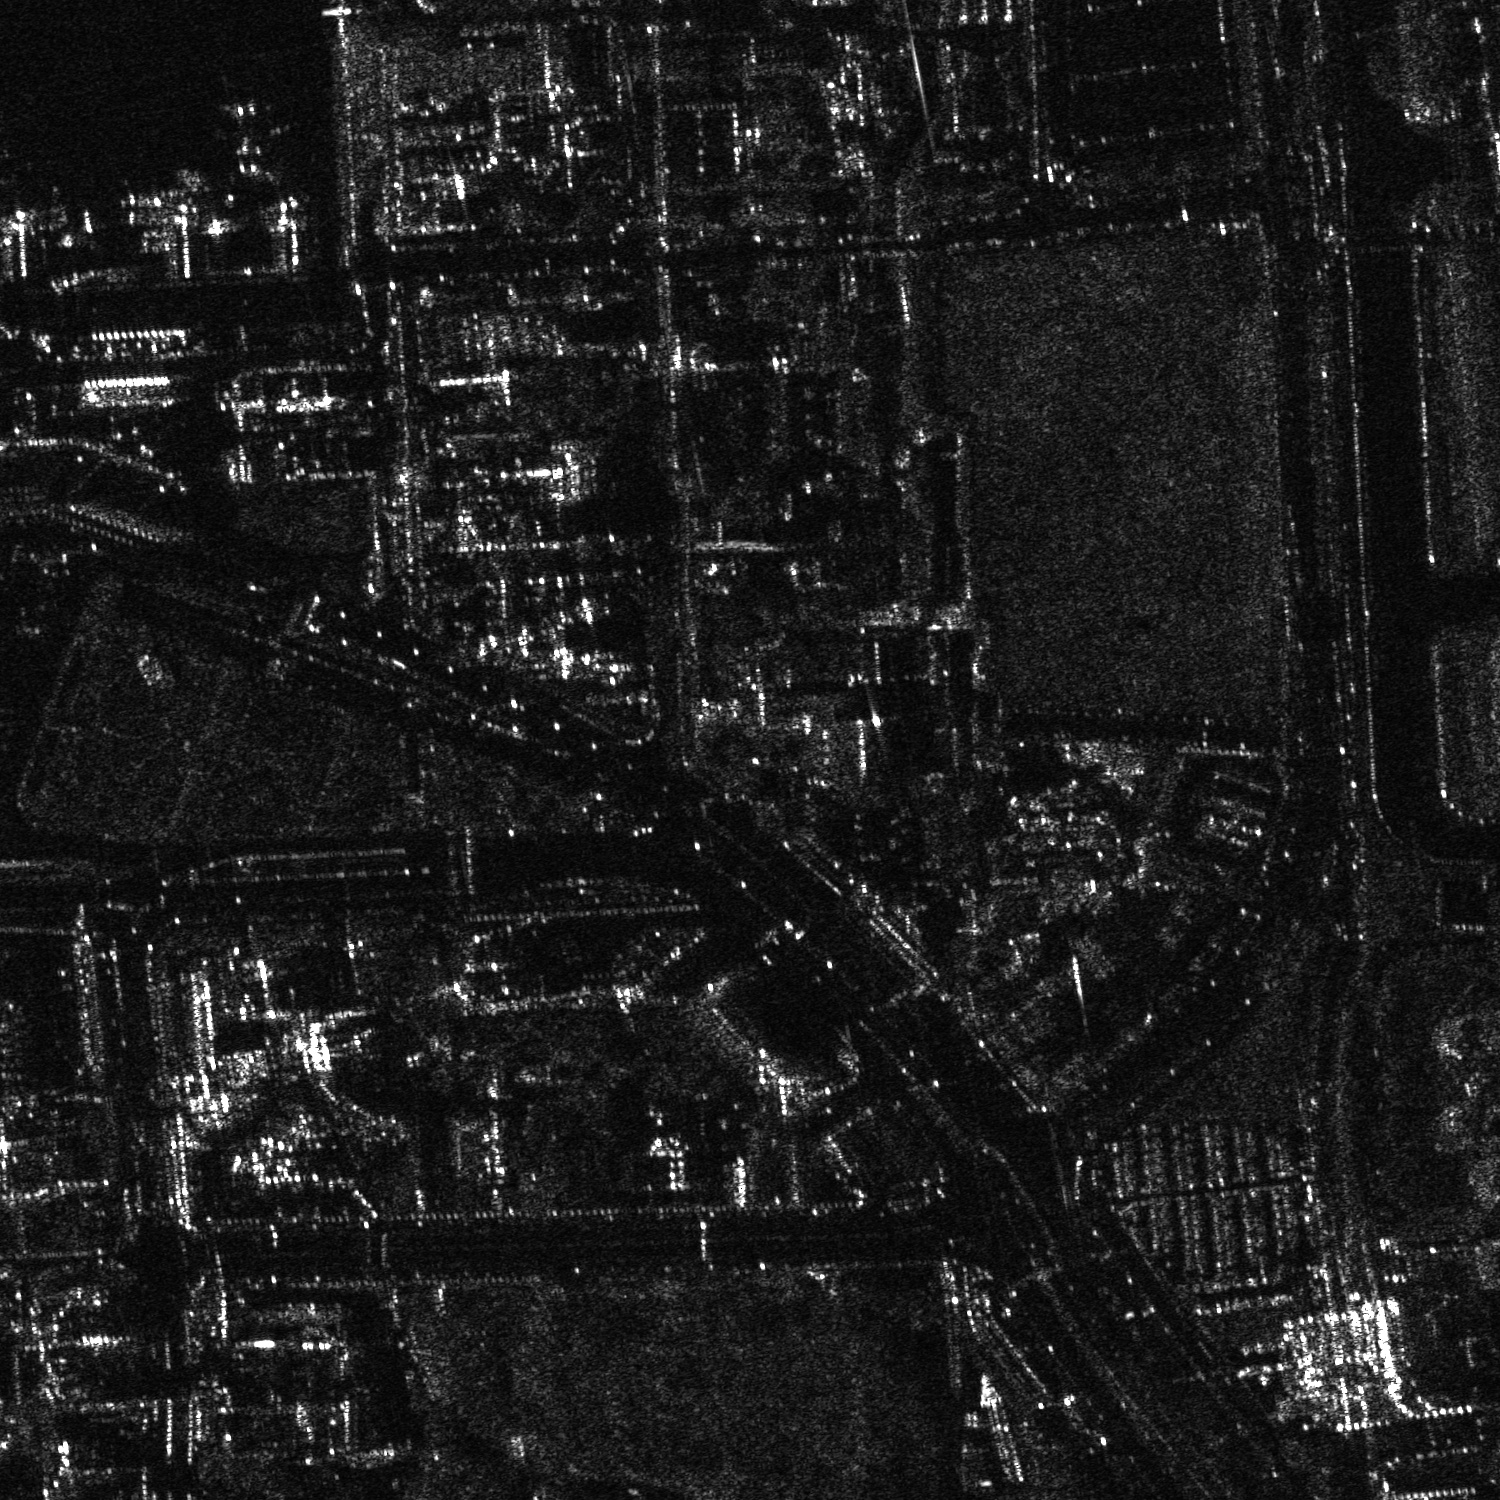A220: (196, 98, 293, 187)
